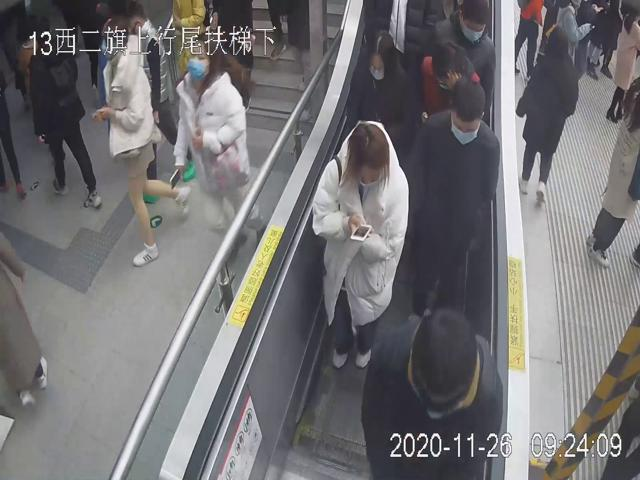person: (308, 116, 407, 370), (168, 32, 267, 264), (406, 79, 499, 317), (344, 28, 412, 156), (431, 0, 496, 116)
